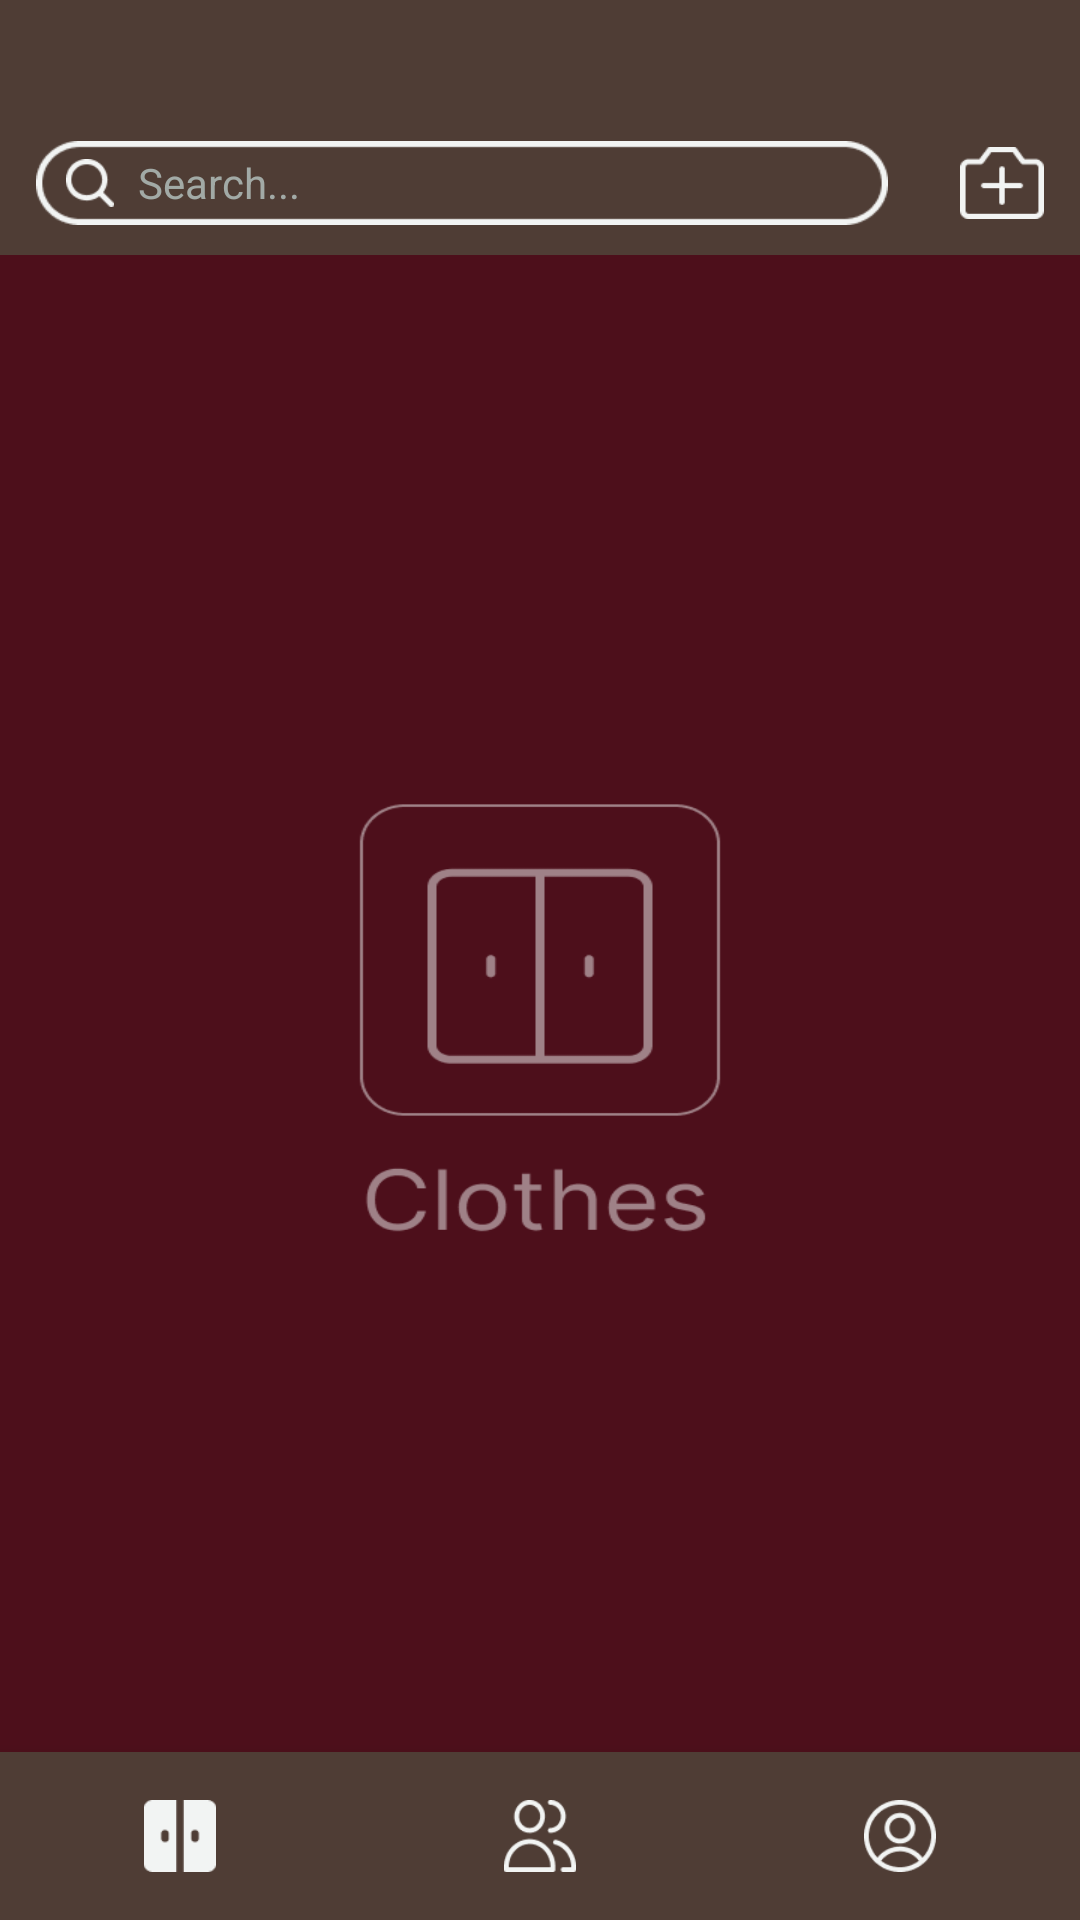

Screen size 1080*1920. Icon name, then its center in pixels as [x,y]:
post: [1002,183]
